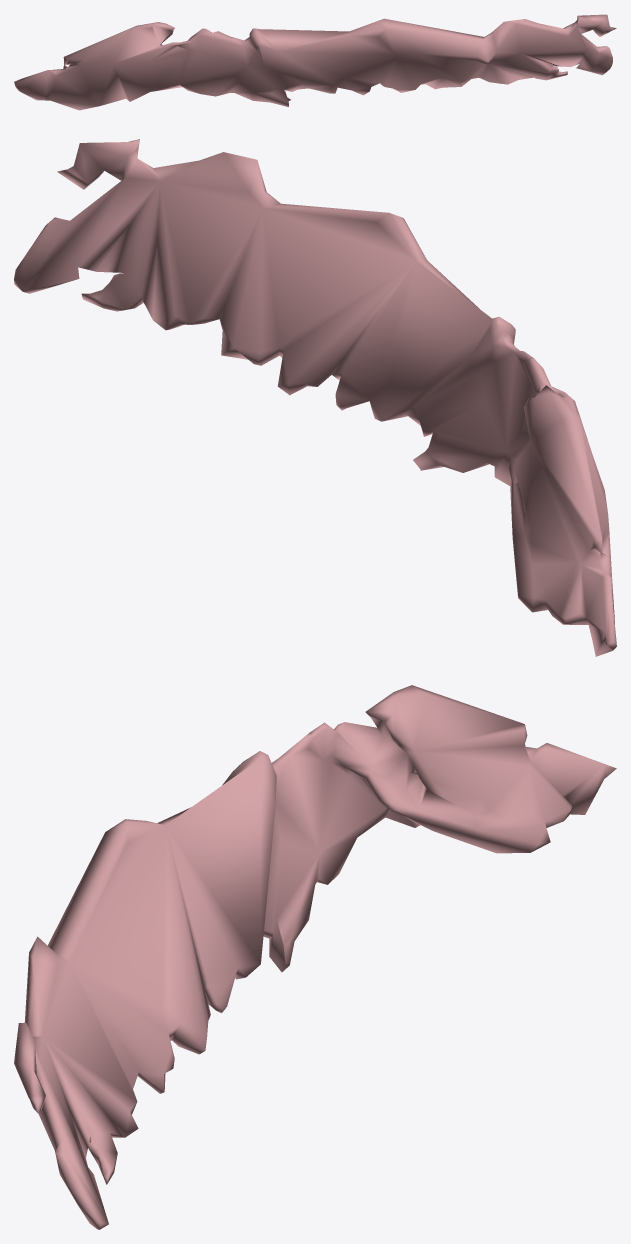
The picture shows the model from 3 angles, top to bottom: view 1: azimuth 30°, elevation 25°; view 2: azimuth 150°, elevation 25°; view 3: azimuth 270°, elevation 25°; orthographic projection. The views are drawn at different scales.
Visible parts, largest first — view 1: ZA_69e3351513a67c20; view 2: ZA_69e3351513a67c20; view 3: ZA_69e3351513a67c20.
Boxes of the visible parts, bbox=[...] form: ZA_69e3351513a67c20: bbox=[14, 14, 616, 110]; ZA_69e3351513a67c20: bbox=[14, 139, 616, 656]; ZA_69e3351513a67c20: bbox=[14, 685, 616, 1229].
Size of the model in its own units: 0.0408 by 0.00919 by 0.0229.
